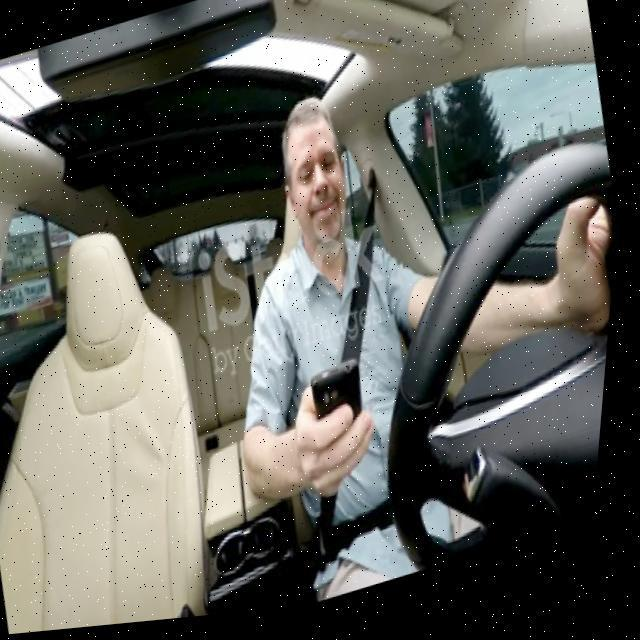PhoneCall: (310, 359, 382, 453)
